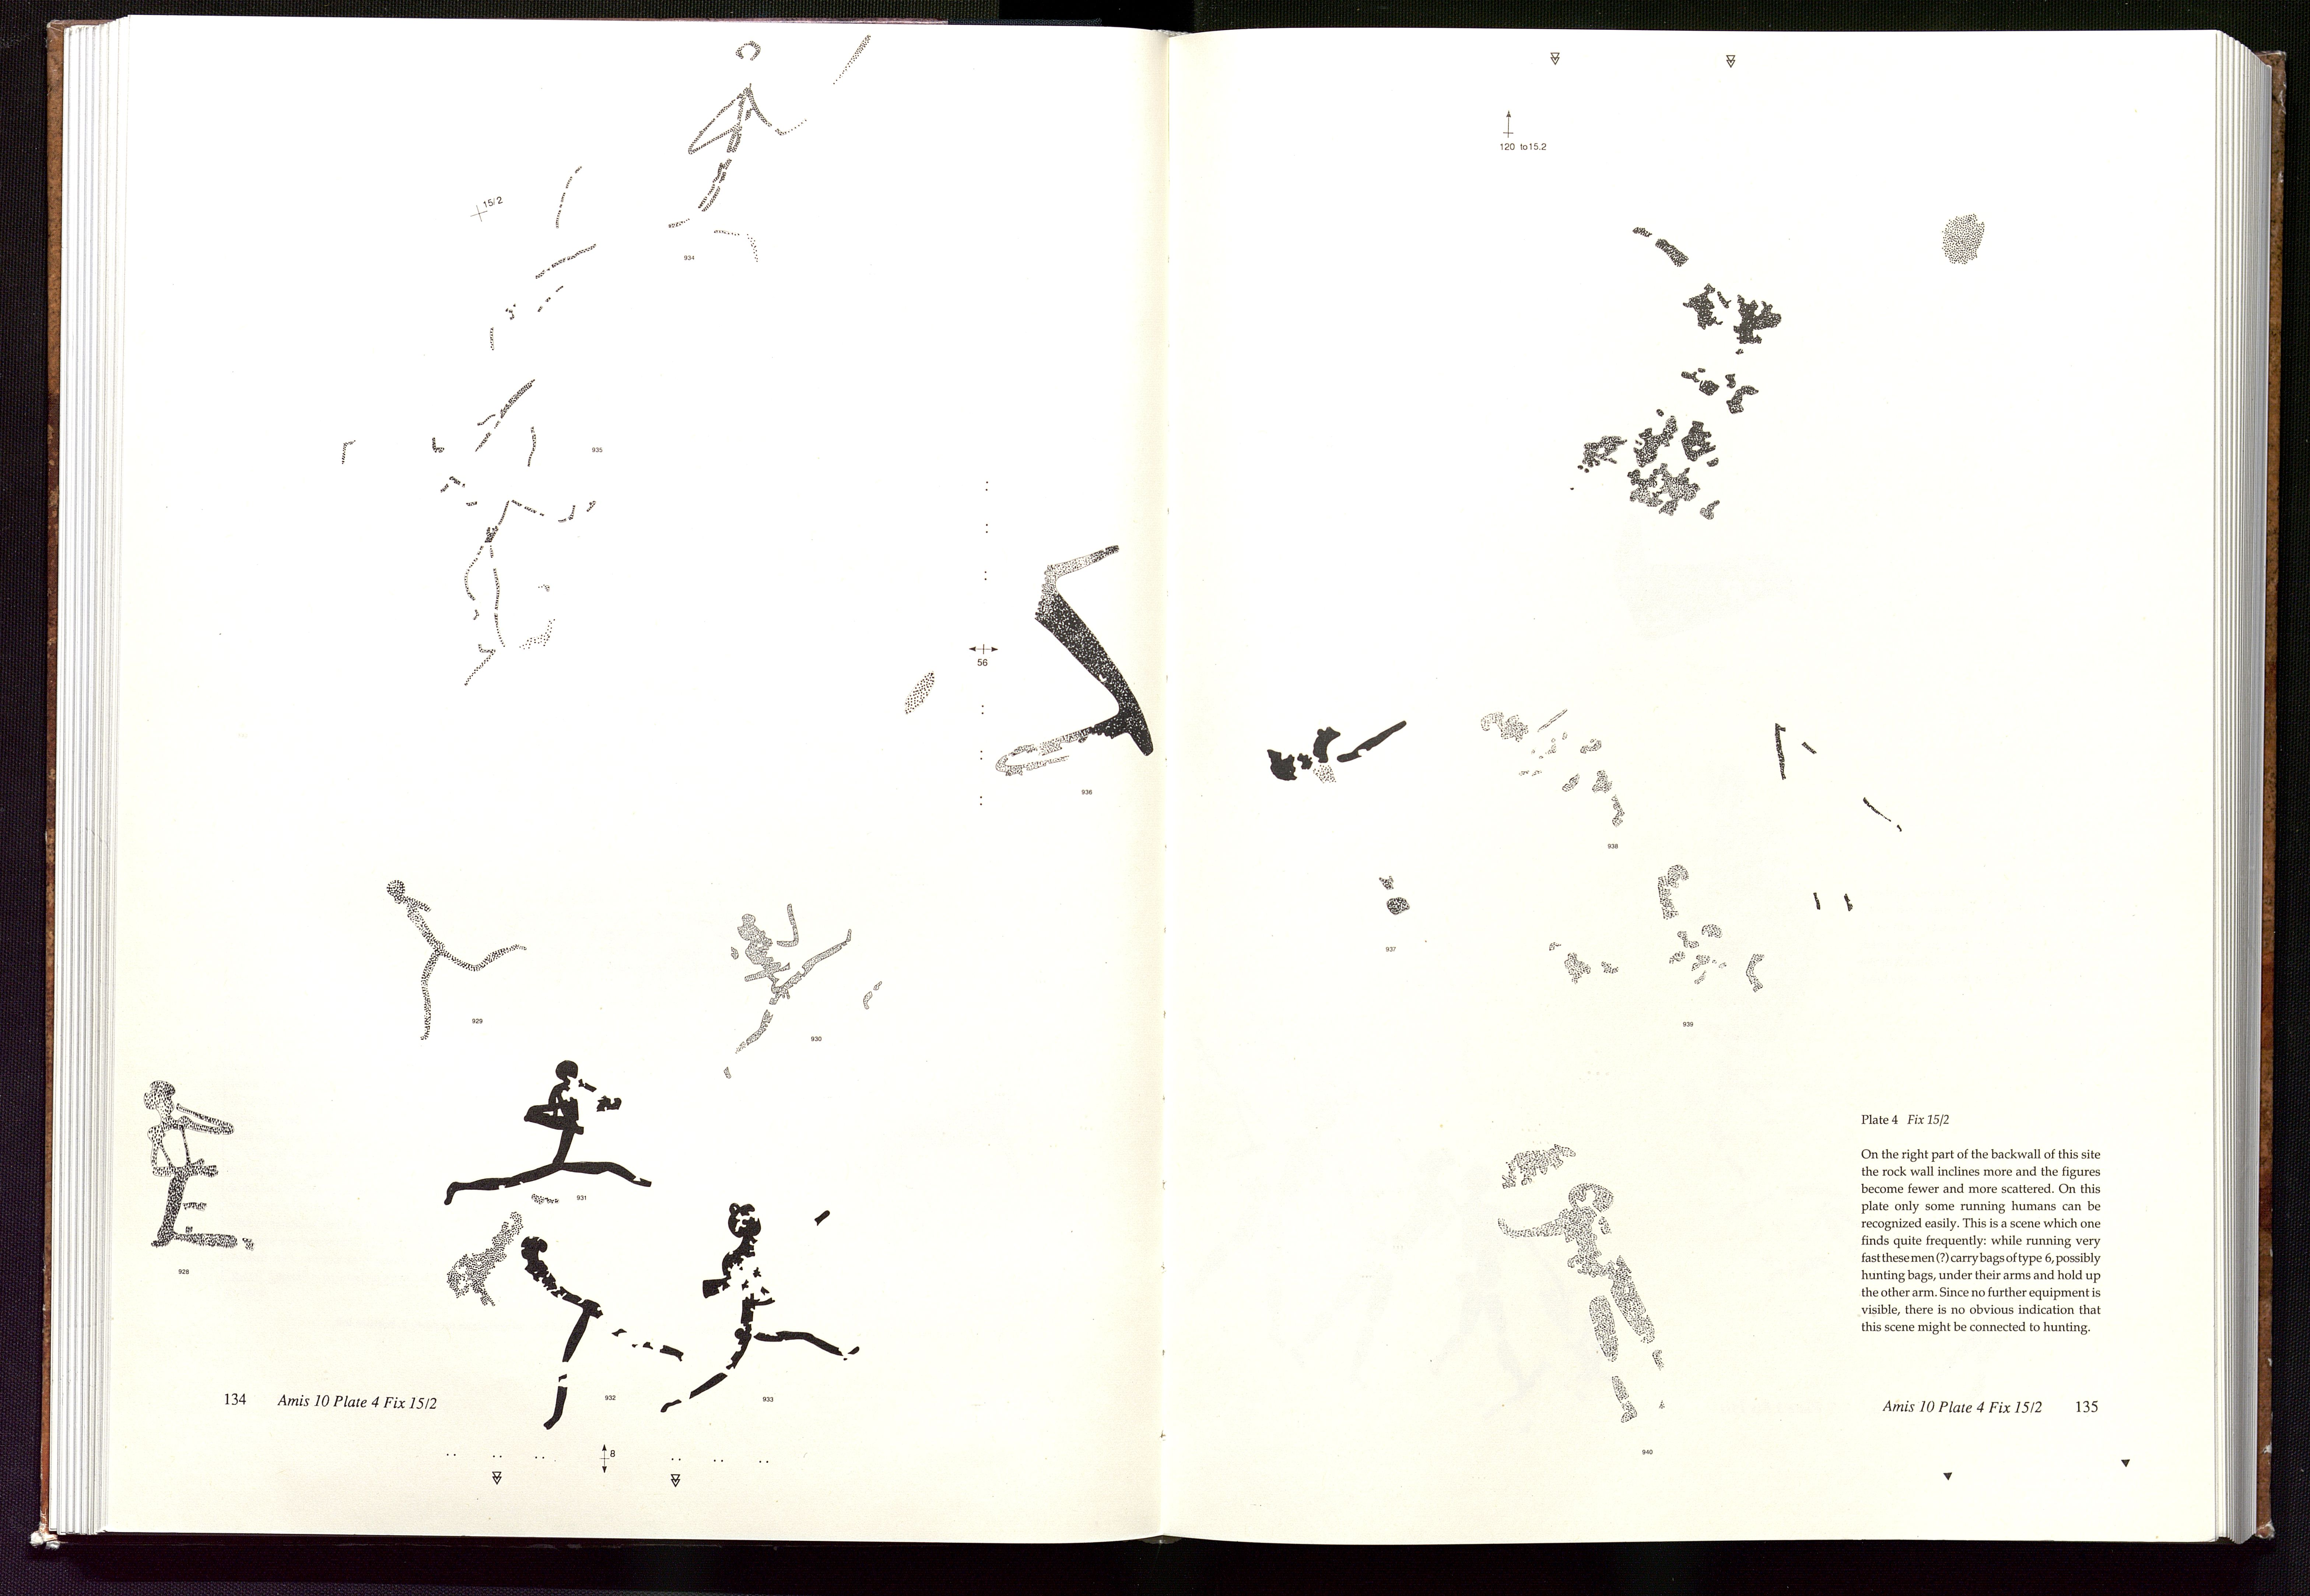human: (663, 34, 874, 265), (659, 1201, 863, 1415), (520, 1234, 684, 1431), (441, 1059, 654, 1206), (718, 901, 854, 1082), (385, 877, 530, 1042), (141, 1077, 257, 1256)
